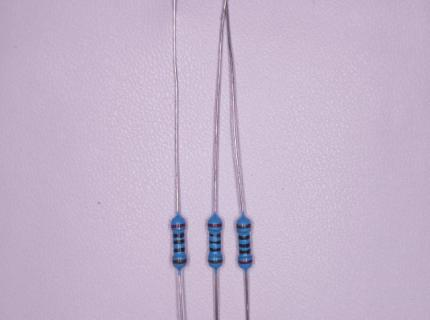Black band: (173, 233, 185, 239), (173, 247, 185, 253), (239, 249, 251, 255), (173, 239, 184, 245), (209, 233, 221, 238), (239, 243, 251, 248), (238, 235, 250, 240), (209, 241, 221, 245), (209, 247, 221, 251)
Brown band: (172, 259, 187, 265), (236, 224, 251, 230), (208, 259, 223, 264)
Red band: (238, 259, 253, 265), (171, 223, 186, 228), (207, 224, 222, 228)
